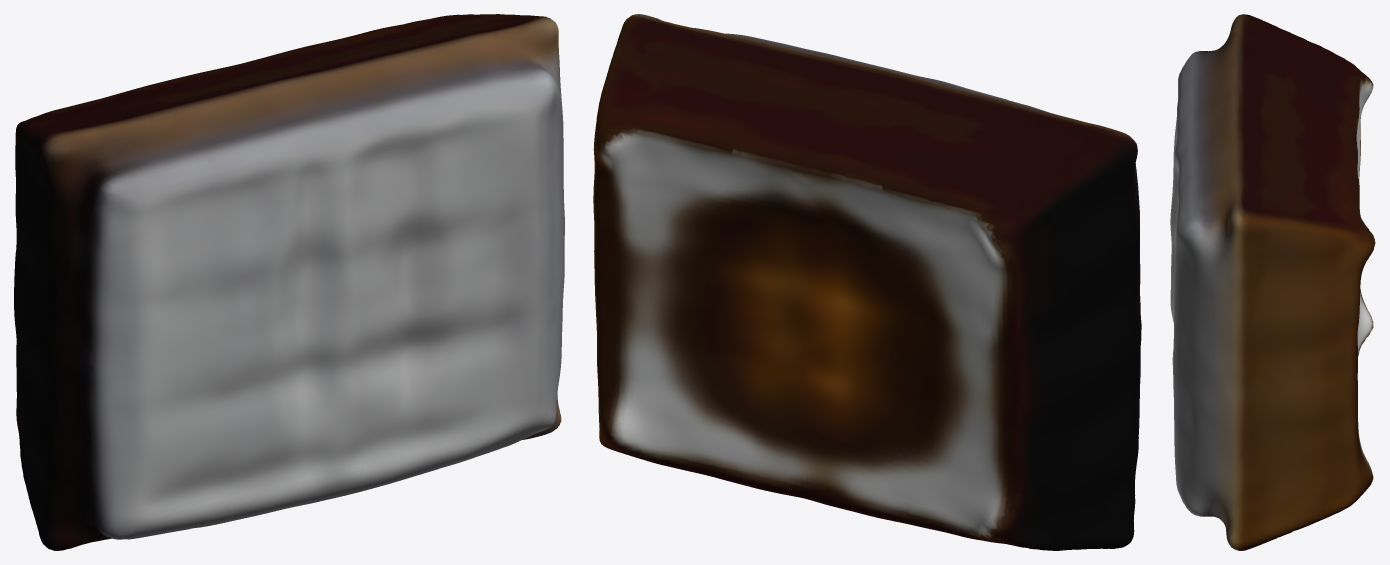
File: soap.glb
3 views of the same model, side by side, from view 1: azimuth 30°, elevation 25°; view 2: azimuth 150°, elevation 25°; view 3: azimuth 270°, elevation 25° (orthographic). The views are drawn at different scales.
Size of the model in its own units: 0.9993 by 0.7726 by 0.42.
